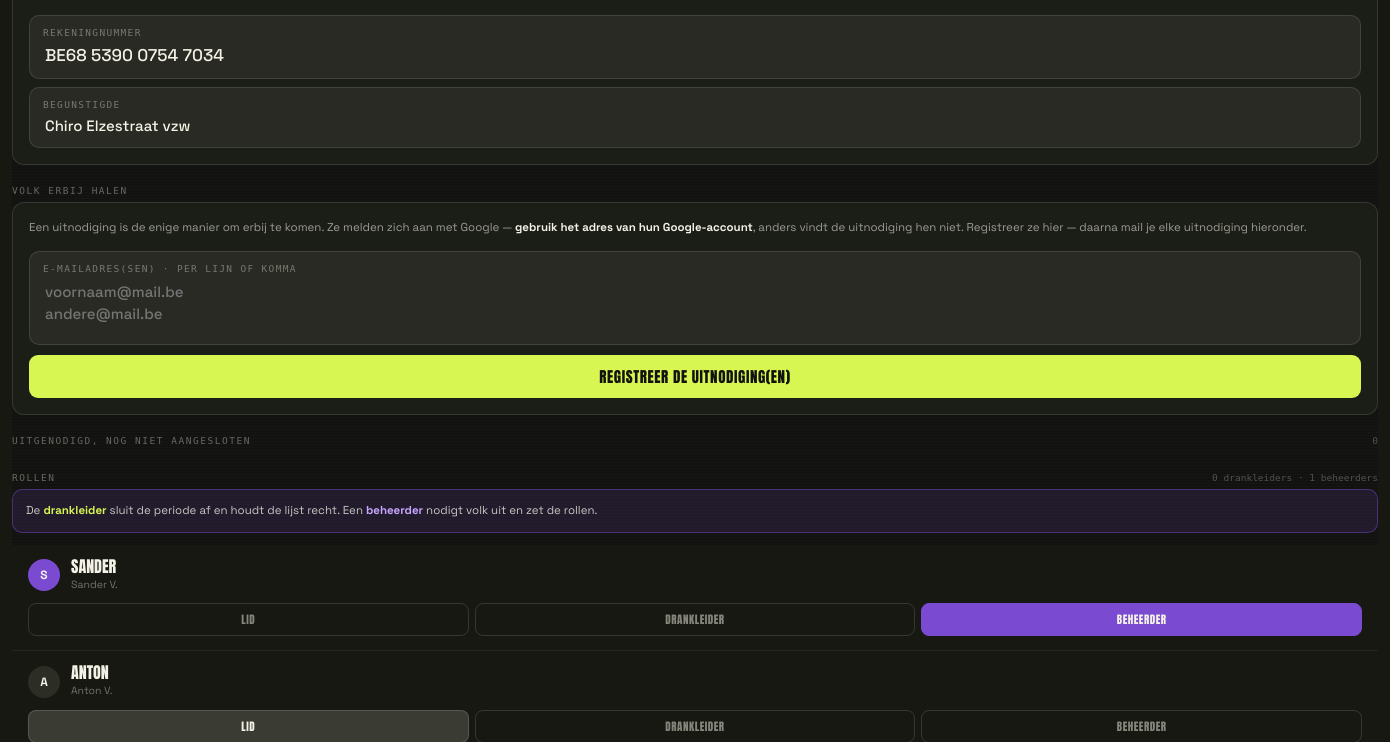
Scenario: AC8: de laatste beheerder kan zichzelf niet degraderen
The width and height of the screenshot is (1390, 742).
(page scrolled)
Click the text "Lid" below "Sander V.": [248, 620] box [28,603,469,636]
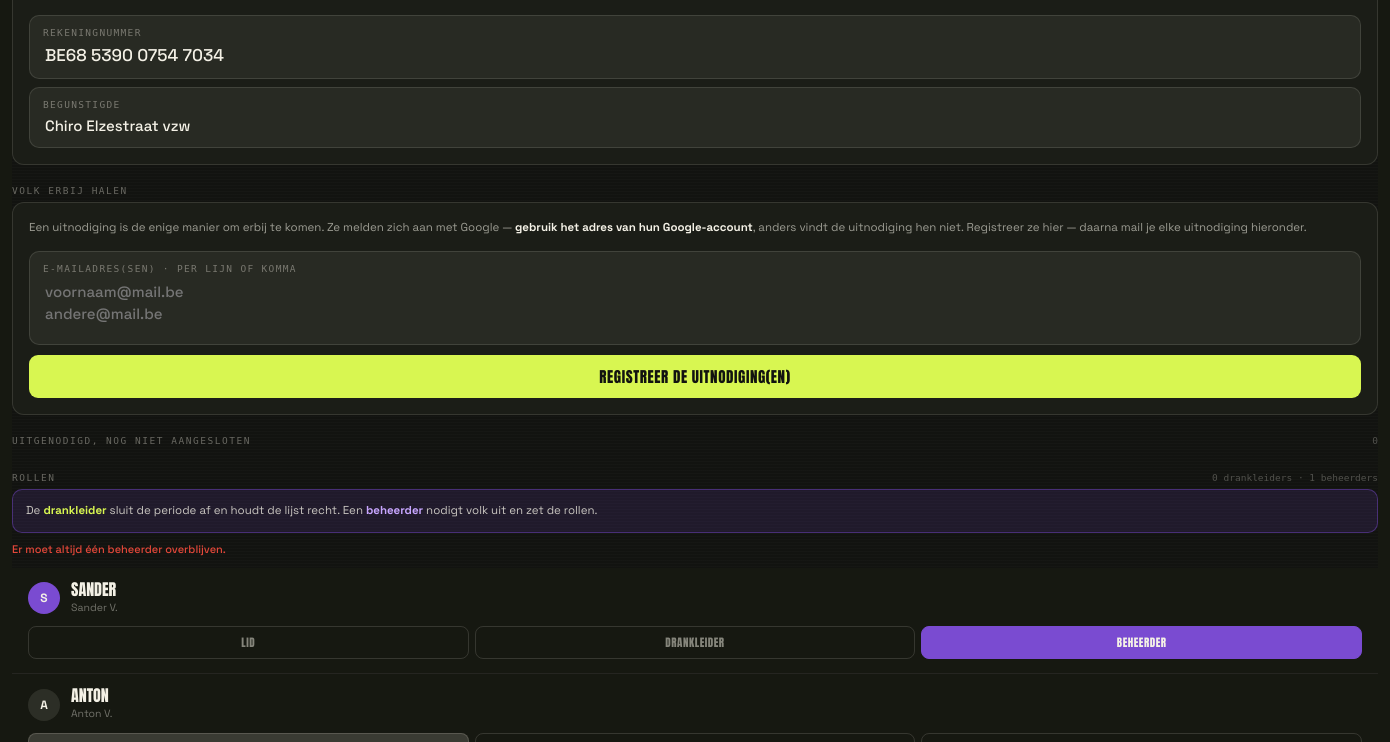
Check: the text "Er moet altijd één beheerder overblijven." is shown, box [12,542,226,556]
